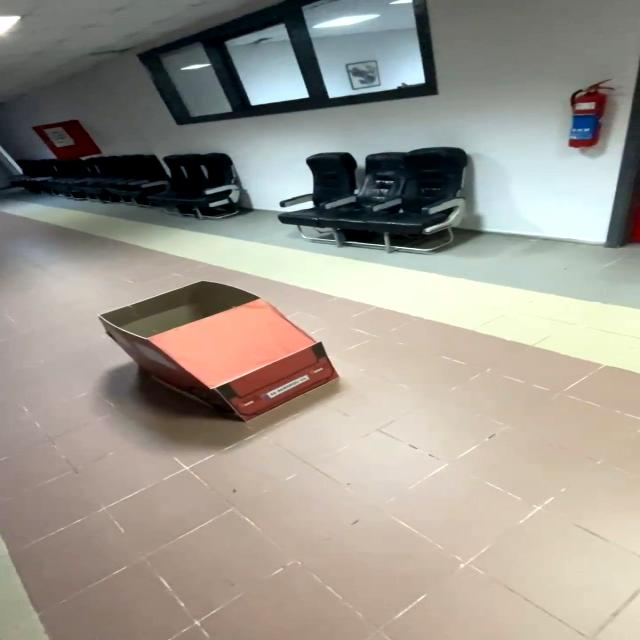red_car: (75, 265, 372, 451)
